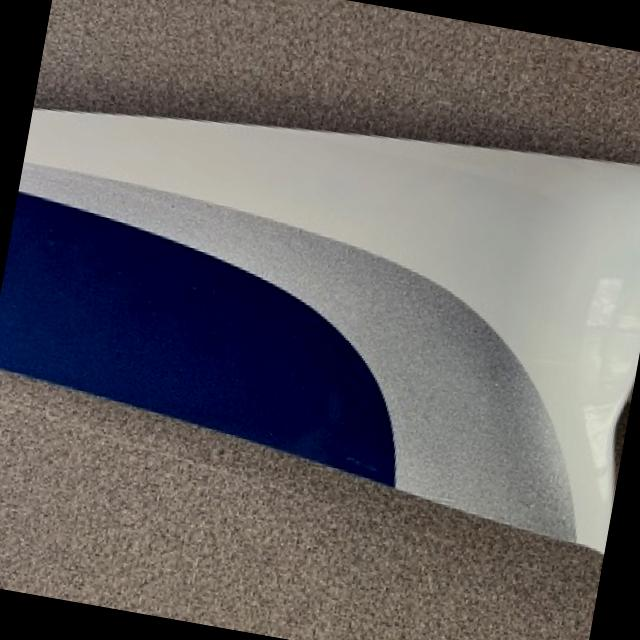healthy: (21, 107, 640, 550)
